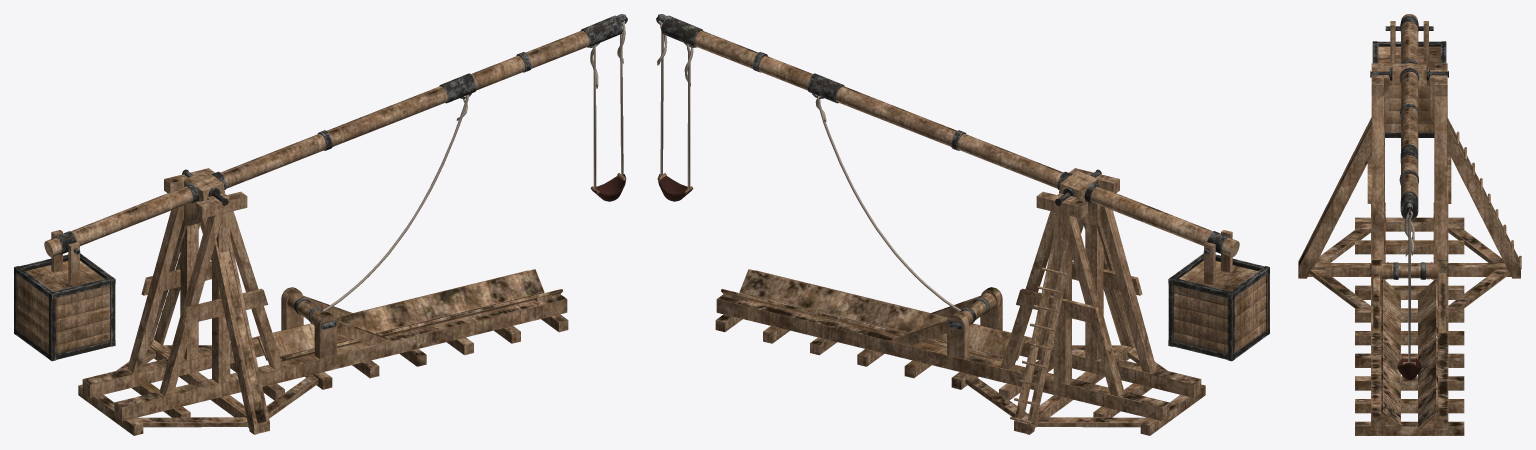
The model's file is trebuchet.zfix-v14.lod0.glb.
3 views of the same model, side by side, from view 1: azimuth 30°, elevation 25°; view 2: azimuth 150°, elevation 25°; view 3: azimuth 270°, elevation 25° (orthographic).
Parts seen in each view (by area): view 1: WoodenFrame_WoodenFrame_0, IronFittings_Iron_0, Ropes_Ropes_0; view 2: WoodenFrame_WoodenFrame_0, IronFittings_Iron_0, Ropes_Ropes_0; view 3: WoodenFrame_WoodenFrame_0, IronFittings_Iron_0, Ropes_Ropes_0.
Part boxes in pixels (x1,y1,x2,y2): WoodenFrame_WoodenFrame_0: (16,30,626,435); IronFittings_Iron_0: (14,14,627,361); Ropes_Ropes_0: (323,21,625,311); WoodenFrame_WoodenFrame_0: (657,30,1267,435); IronFittings_Iron_0: (656,14,1269,361); Ropes_Ropes_0: (657,22,960,311); WoodenFrame_WoodenFrame_0: (1298,14,1521,435); IronFittings_Iron_0: (1370,16,1448,279); Ropes_Ropes_0: (1397,211,1421,379).
Size of the model in its own units: 24.86 by 11.01 by 8.21.
Materials: 3 (2 with a texture image).
